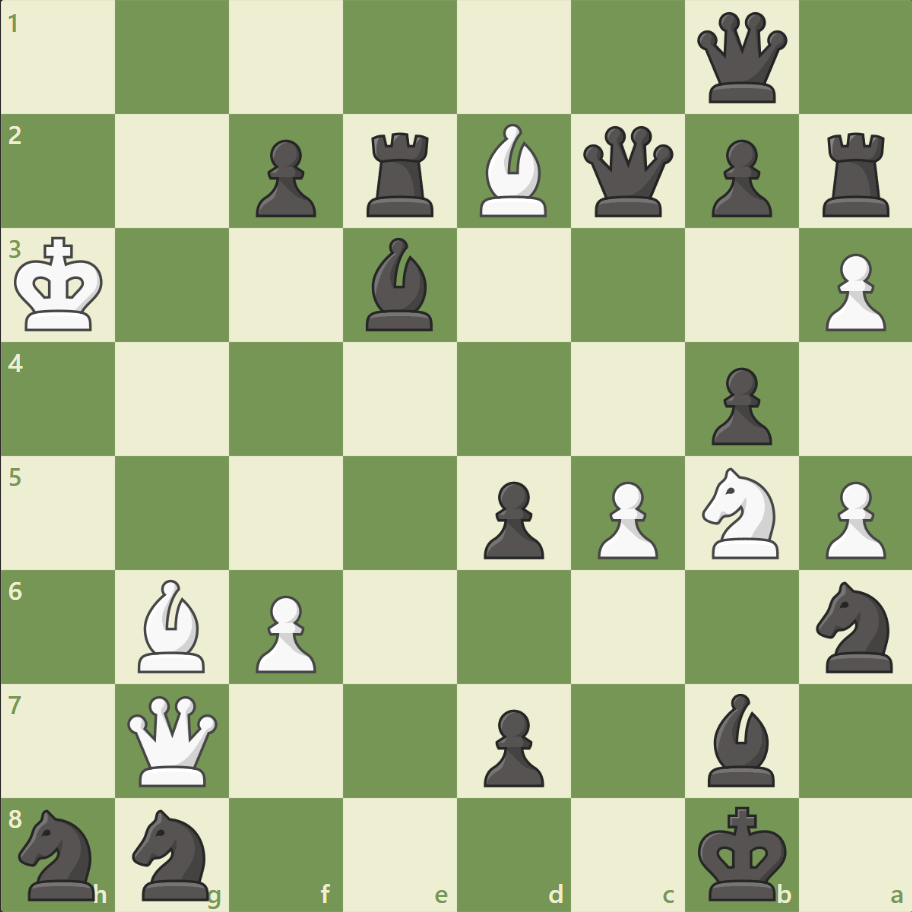B: (131, 574, 215, 676), (471, 120, 555, 222)
K: (11, 231, 111, 339)
N: (692, 461, 789, 564)
P: (247, 586, 322, 677), (815, 473, 889, 564), (588, 473, 662, 564), (815, 246, 889, 337)
Q: (124, 690, 223, 789)
b: (698, 687, 782, 790), (358, 233, 442, 336)
k: (692, 798, 792, 906)
n: (124, 802, 222, 904), (11, 802, 108, 904), (806, 575, 903, 677)
p: (474, 700, 549, 791), (474, 473, 549, 564), (701, 359, 776, 450), (701, 132, 776, 223), (247, 132, 322, 223)
q: (578, 122, 677, 222), (691, 9, 790, 108)
r: (814, 125, 897, 222), (360, 125, 442, 222)
